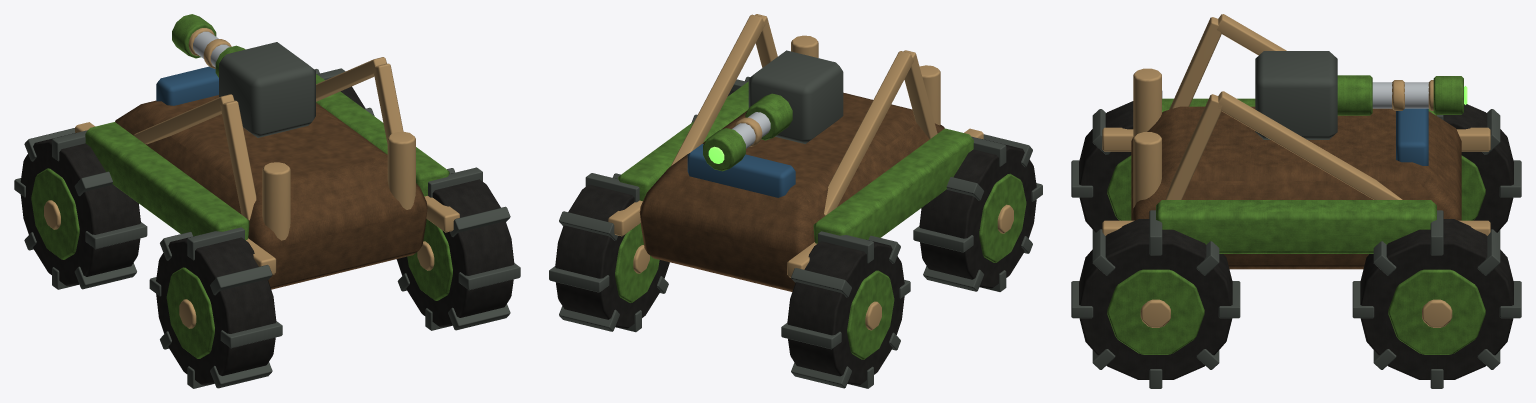
Rendered from vael_rat_des_sables.gltf.
3 renders of one model, left to right at view 1: azimuth 30°, elevation 25°; view 2: azimuth 150°, elevation 25°; view 3: azimuth 270°, elevation 25°, orthographic. The views are drawn at different scales.
Parts seen in each view (by area): view 1: Root.022_Geometry, Wheel_-0.6554999999999999_-0.003_Geometry, Wheel_-0.6554999999999999_0.003_Geometry, Wheel_0.6554999999999999_-0.003_Geometry, GunPitch.006_Geometry, GunRecoil.003_Geometry; view 2: Root.022_Geometry, Wheel_-0.6554999999999999_0.003_Geometry, Wheel_-0.6554999999999999_-0.003_Geometry, Wheel_0.6554999999999999_0.003_Geometry, GunPitch.006_Geometry, GunRecoil.003_Geometry; view 3: Root.022_Geometry, Wheel_0.6554999999999999_0.003_Geometry, Wheel_0.6554999999999999_-0.003_Geometry, GunPitch.006_Geometry, Wheel_-0.6554999999999999_0.003_Geometry, Wheel_-0.6554999999999999_-0.003_Geometry, GunRecoil.003_Geometry.
Boxes of the visible parts, bbox=[...] form: Root.022_Geometry: bbox=[75, 57, 459, 289]; Wheel_-0.6554999999999999_-0.003_Geometry: bbox=[149, 227, 282, 388]; Wheel_-0.6554999999999999_0.003_Geometry: bbox=[14, 128, 147, 289]; Wheel_0.6554999999999999_-0.003_Geometry: bbox=[396, 167, 520, 330]; GunPitch.006_Geometry: bbox=[219, 42, 315, 137]; GunRecoil.003_Geometry: bbox=[172, 14, 245, 77]; Root.022_Geometry: bbox=[608, 14, 983, 291]; Wheel_-0.6554999999999999_0.003_Geometry: bbox=[781, 231, 910, 388]; Wheel_-0.6554999999999999_-0.003_Geometry: bbox=[913, 134, 1042, 291]; Wheel_0.6554999999999999_0.003_Geometry: bbox=[549, 173, 669, 332]; GunPitch.006_Geometry: bbox=[748, 50, 843, 143]; GunRecoil.003_Geometry: bbox=[703, 93, 792, 171]; Root.022_Geometry: bbox=[1102, 14, 1490, 269]; Wheel_0.6554999999999999_0.003_Geometry: bbox=[1352, 210, 1521, 388]; Wheel_0.6554999999999999_-0.003_Geometry: bbox=[1071, 210, 1240, 388]; GunPitch.006_Geometry: bbox=[1255, 51, 1337, 139]; Wheel_-0.6554999999999999_0.003_Geometry: bbox=[1437, 104, 1521, 235]; Wheel_-0.6554999999999999_-0.003_Geometry: bbox=[1071, 91, 1162, 235]; GunRecoil.003_Geometry: bbox=[1337, 75, 1467, 115].
Bounding box in the file's own units: 1.65 × 1.32 × 2.07.
8 materials, 3 textured.
